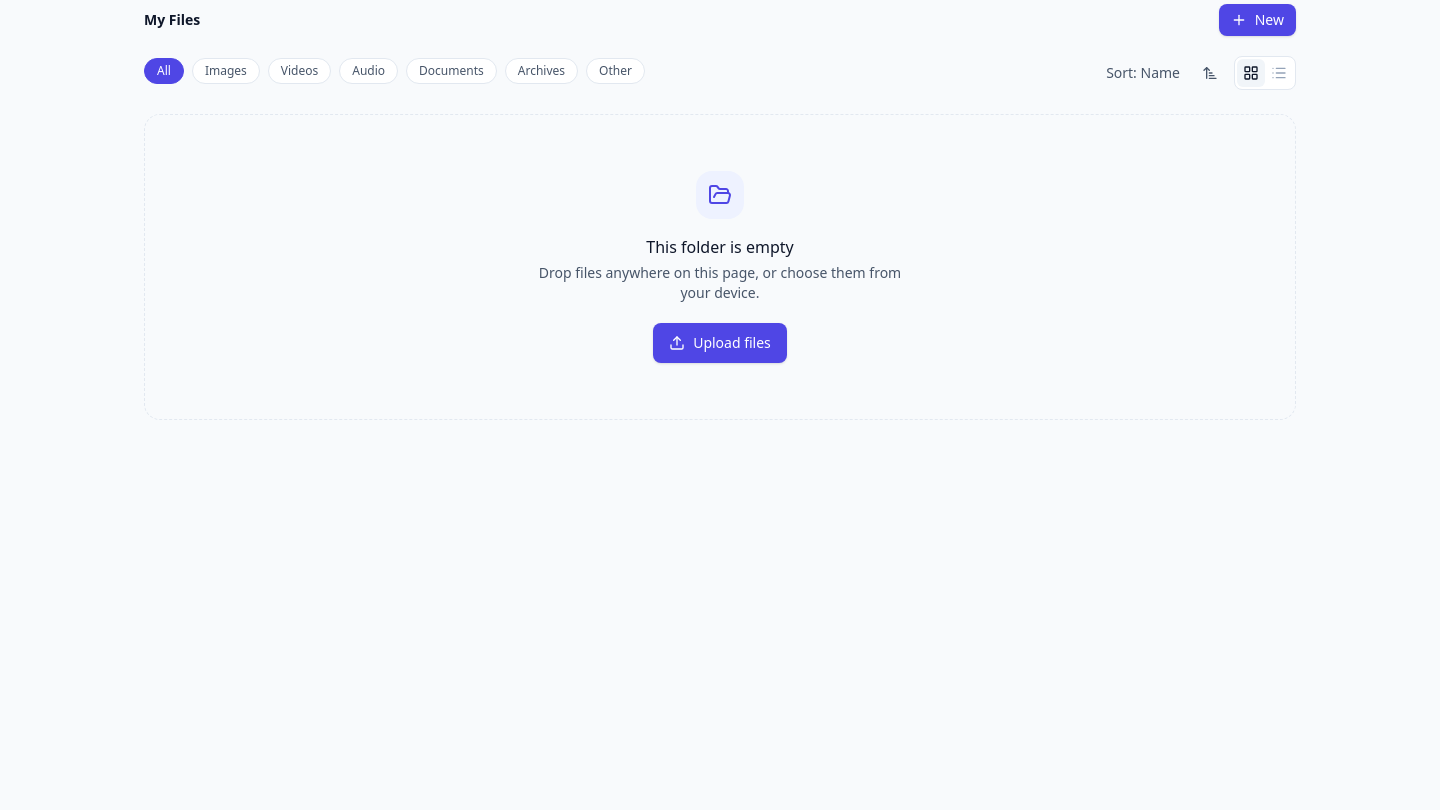
Test: new folder › checks the name before sending
Expected: the heading "This folder is empty" is shown, [646,235,794,259]
Click the button "New": (1257, 20) [1219,4,1296,36]
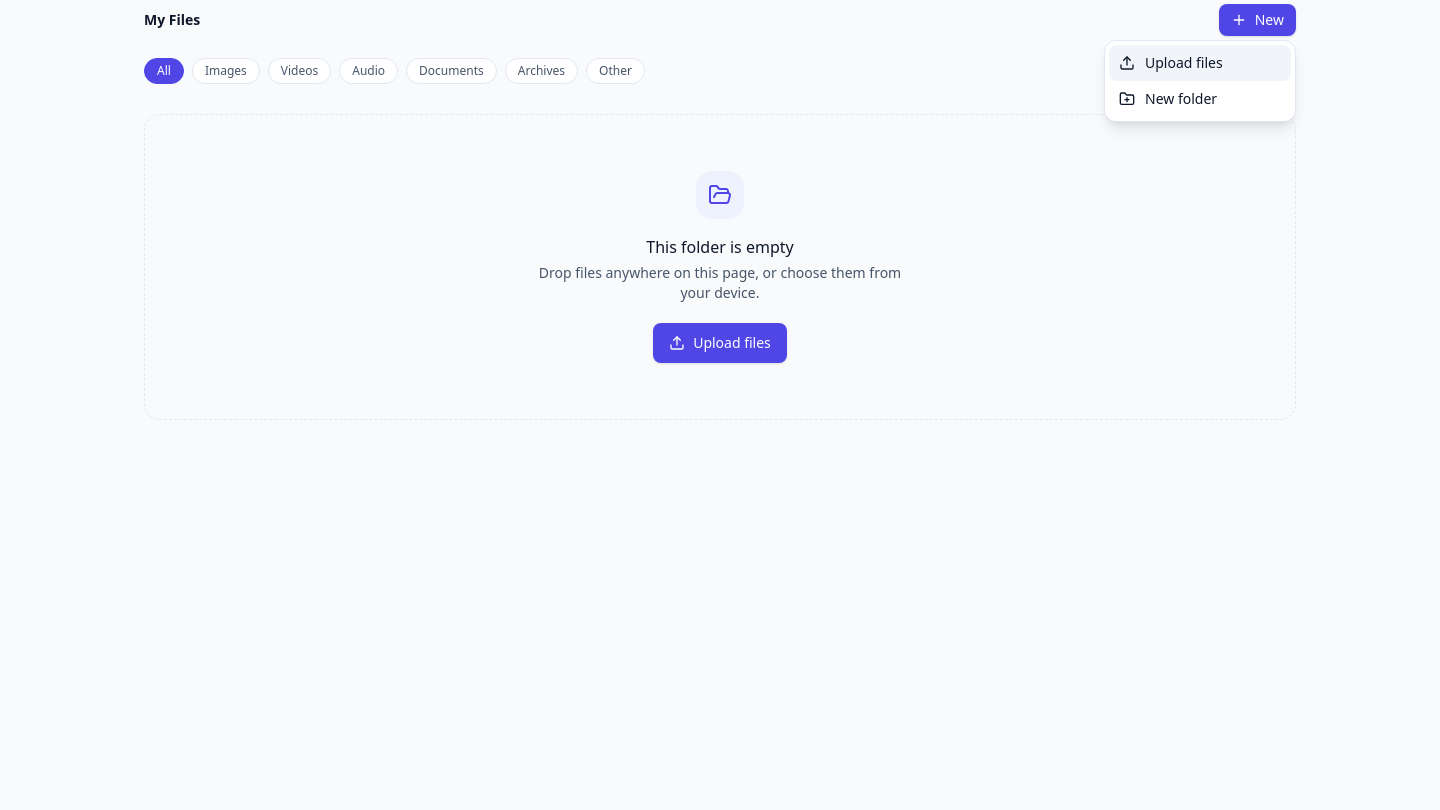
Click the menu item "New folder": (1200, 99) [1109,81,1291,117]
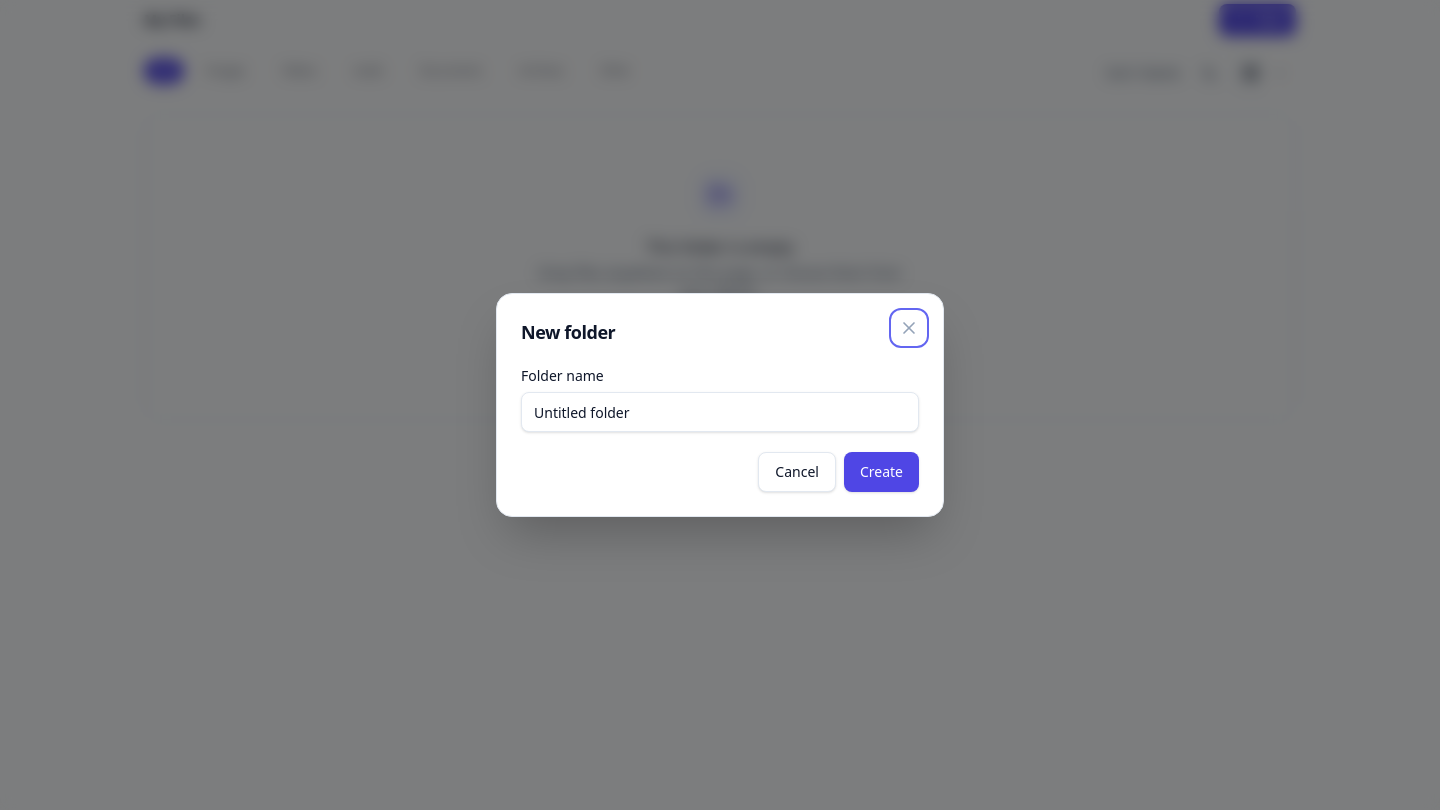
Replace the text in the field labelled "Folder name" with "a/b": (720, 412) [521,392,919,432]
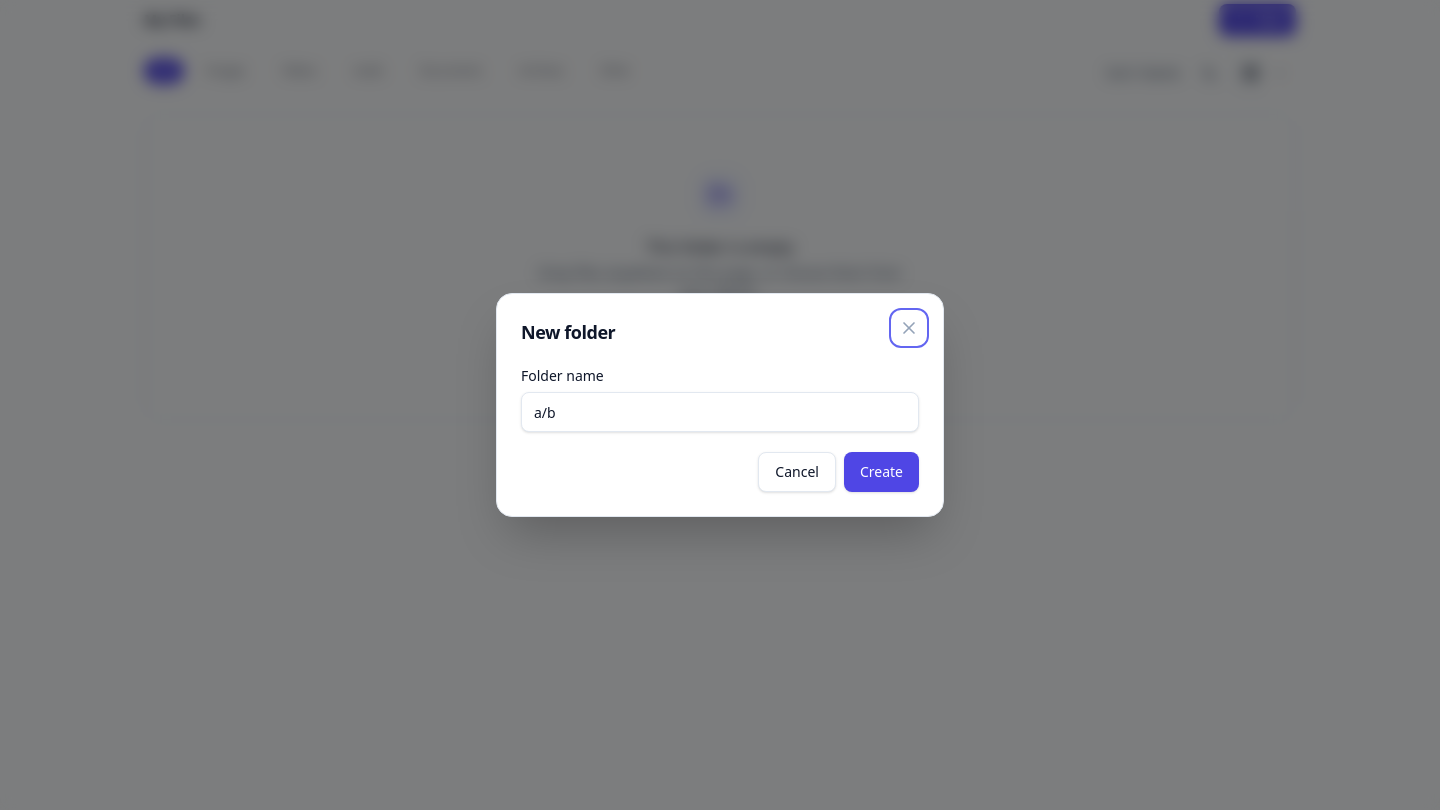
Click the button "Create": (881, 472) [844,452,919,492]
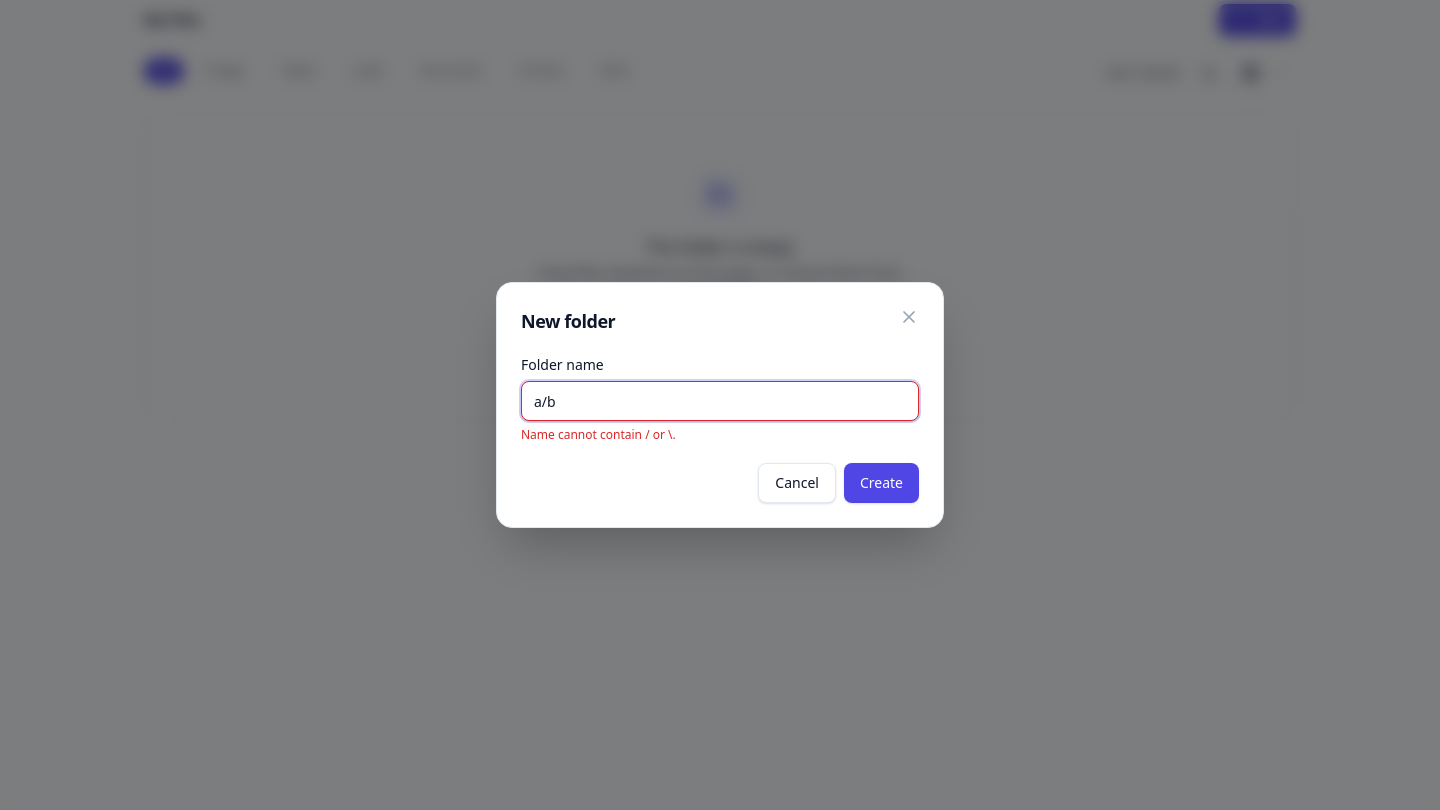
Expected: the text "Name cannot contain / or \\." is shown, [521,426,676,443]
